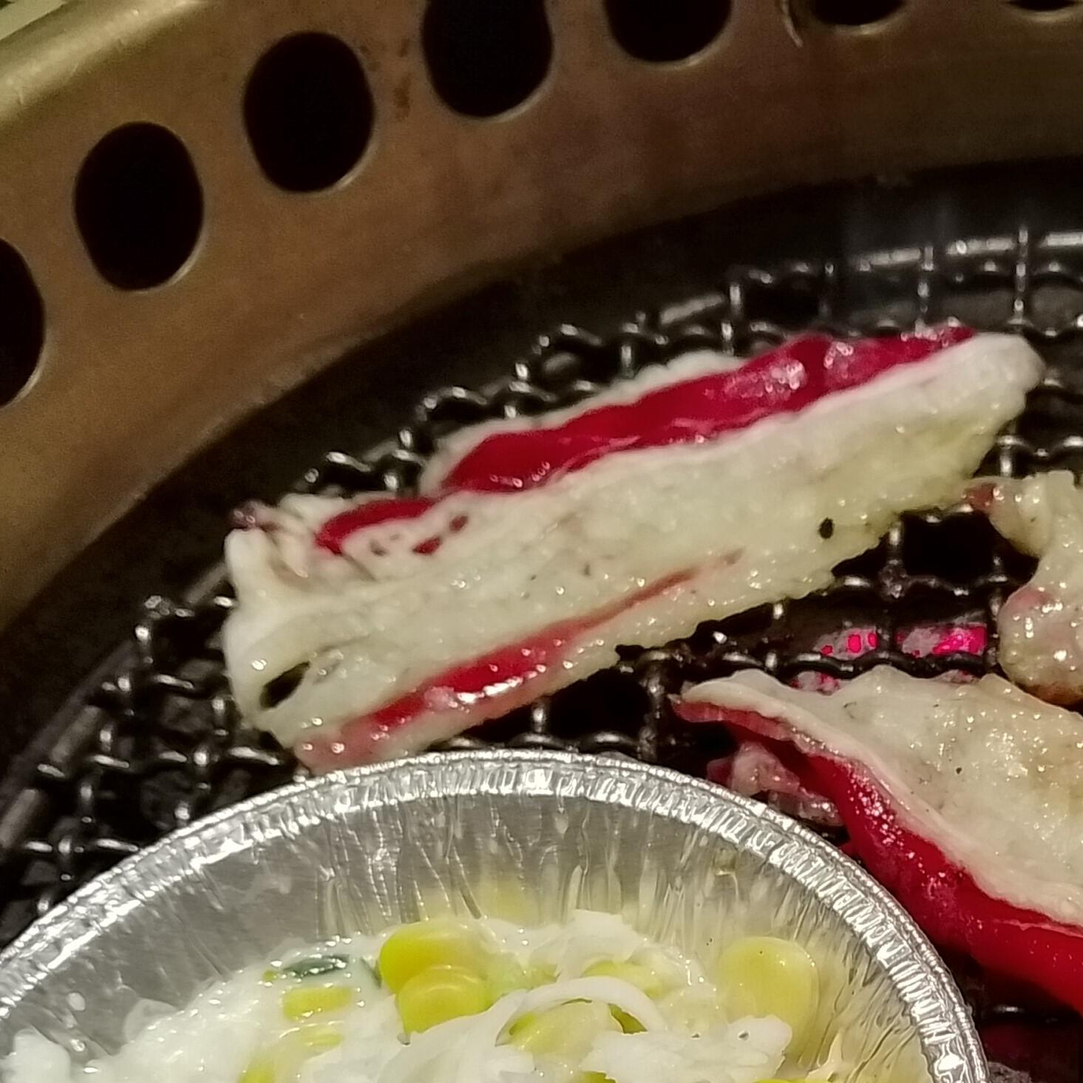Undercooked: (223, 325, 1045, 771), (678, 668, 1082, 1013)
